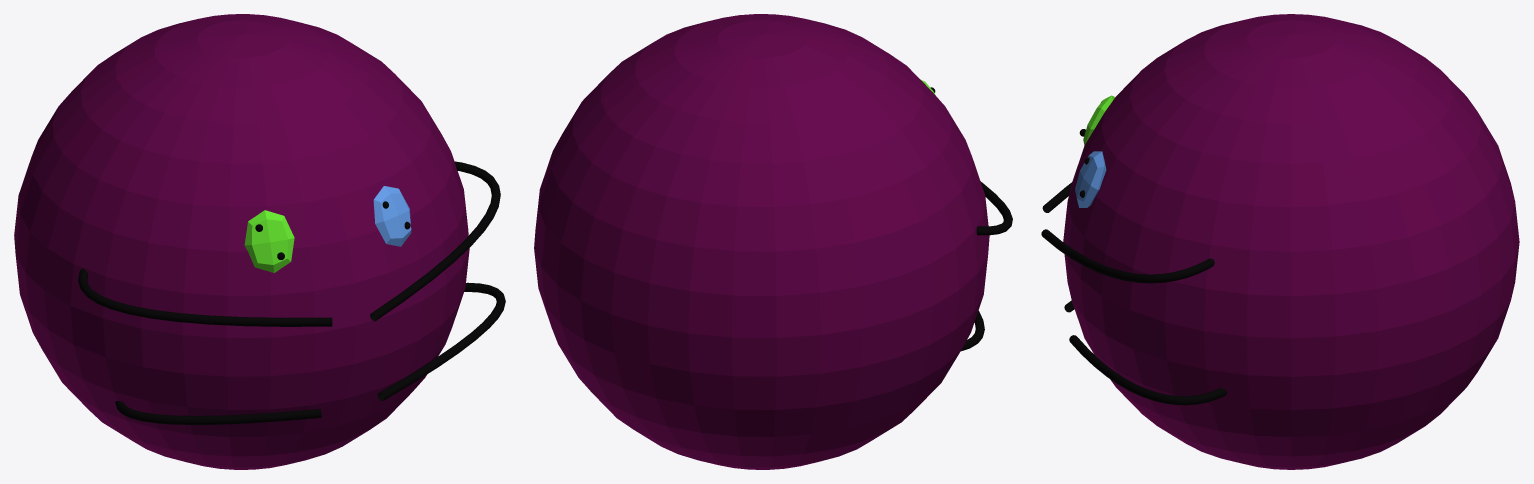
File: bug4.fbx
The picture shows the model from 3 angles, left to right: view 1: azimuth 30°, elevation 25°; view 2: azimuth 150°, elevation 25°; view 3: azimuth 270°, elevation 25°; orthographic projection.
Parts seen in each view (by area): view 1: Sphere, NurbsPath, NurbsPath.001, Cube, Cube.001; view 2: Sphere, NurbsPath; view 3: Sphere, NurbsPath, NurbsPath.001, Cube.001.
Boxes of the visible parts, x1,y1,x2,y2 form: Sphere: [14, 14, 469, 469]; NurbsPath: [78, 161, 500, 326]; NurbsPath.001: [115, 282, 505, 424]; Cube: [244, 210, 294, 272]; Cube.001: [373, 186, 411, 246]; Sphere: [534, 14, 989, 469]; NurbsPath: [976, 181, 1012, 235]; Sphere: [1063, 14, 1519, 469]; NurbsPath: [1041, 182, 1214, 283]; NurbsPath.001: [1064, 300, 1226, 405]; Cube.001: [1075, 151, 1106, 207].
Bounding box in the file's own units: 205 × 200 × 210.
